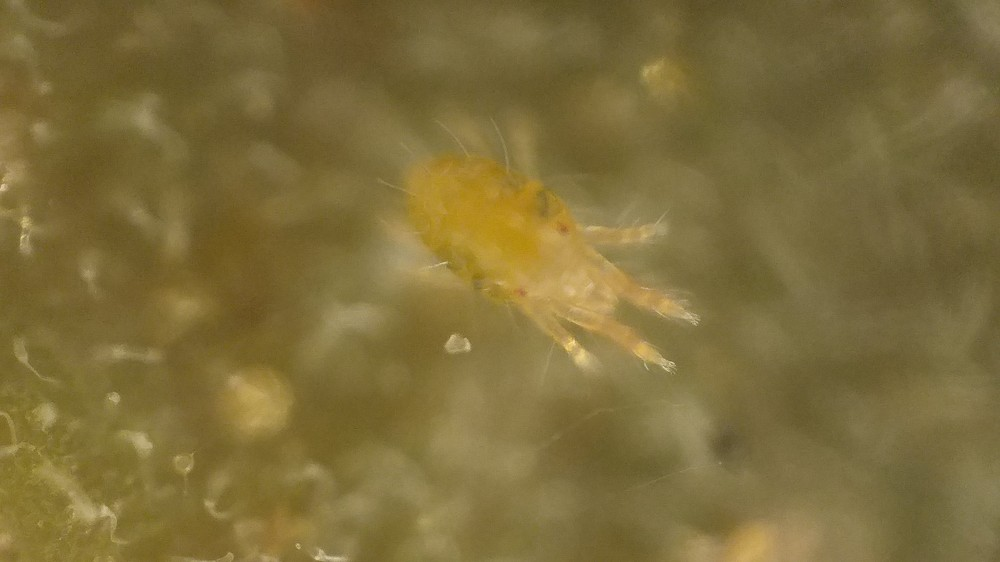Aracnido Rojo: (372, 116, 728, 397)
